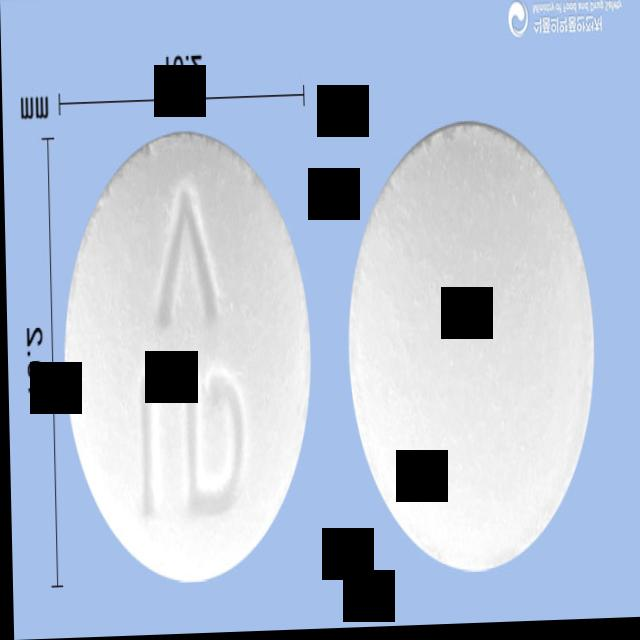Besivo: (341, 117, 603, 584), (57, 126, 316, 592)
